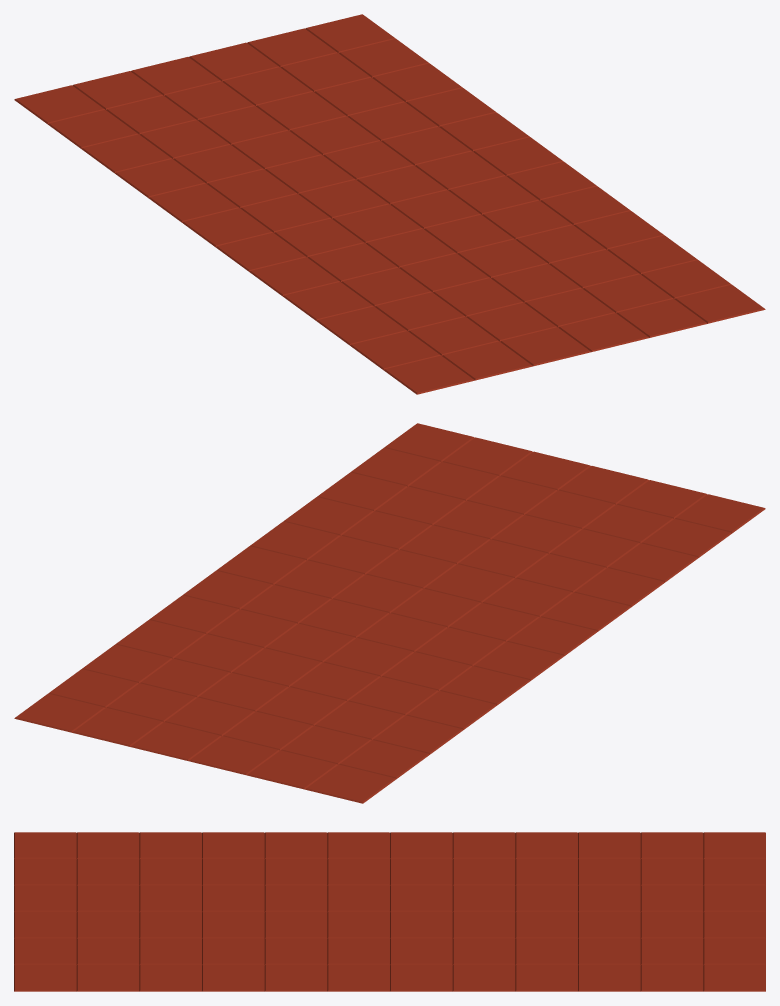
The model's file is playing field lvl1.fbx.
3 renders of one model, top to bottom at view 1: azimuth 30°, elevation 25°; view 2: azimuth 150°, elevation 25°; view 3: azimuth 270°, elevation 25°, orthographic. The views are drawn at different scales.
Parts seen in each view (by area): view 1: Plane.002, Plane.004, Plane.047, Plane.039, Plane.042, Plane.046, Plane.054, Plane.066, Plane.073, Plane.085, Plane.079, Plane.109 (+60 smaller); view 2: Plane.109, Plane.110, Plane.114, Plane.111, Plane.112, Plane.113, Plane.085, Plane.097, Plane.079, Plane.066, Plane.002, Plane.073 (+60 smaller); view 3: Plane.051, Plane.053, Plane.070, Plane.072, Plane.088, Plane.090, Plane.106, Plane.108, Plane.049, Plane.068, Plane.086, Plane.104 (+60 smaller).
Part boxes in pixels (x1=…): Plane.002: x1=383, y1=355, x2=474, y2=394; Plane.004: x1=442, y1=341, x2=532, y2=380; Plane.047: x1=674, y1=284, x2=765, y2=323; Plane.039: x1=500, y1=327, x2=590, y2=366; Plane.042: x1=558, y1=313, x2=648, y2=351; Plane.046: x1=616, y1=299, x2=707, y2=337; Plane.054: x1=316, y1=306, x2=406, y2=345; Plane.066: x1=249, y1=257, x2=339, y2=296; Plane.073: x1=215, y1=232, x2=306, y2=271; Plane.085: x1=148, y1=183, x2=238, y2=222; Plane.079: x1=182, y1=208, x2=272, y2=246; Plane.109: x1=14, y1=85, x2=104, y2=124; Plane.109: x1=305, y1=764, x2=396, y2=803; Plane.110: x1=247, y1=750, x2=337, y2=789; Plane.114: x1=14, y1=693, x2=105, y2=732; Plane.111: x1=189, y1=736, x2=279, y2=775; Plane.112: x1=131, y1=722, x2=221, y2=760; Plane.113: x1=72, y1=708, x2=163, y2=746; Plane.085: x1=440, y1=666, x2=530, y2=705; Plane.097: x1=373, y1=715, x2=463, y2=754; Plane.079: x1=473, y1=641, x2=564, y2=680; Plane.066: x1=541, y1=592, x2=631, y2=631; Plane.002: x1=675, y1=494, x2=765, y2=533; Plane.073: x1=507, y1=617, x2=597, y2=655; Plane.051: x1=76, y1=911, x2=139, y2=938; Plane.053: x1=76, y1=964, x2=139, y2=991; Plane.070: x1=264, y1=911, x2=327, y2=938; Plane.072: x1=264, y1=964, x2=327, y2=991; Plane.088: x1=452, y1=911, x2=515, y2=938; Plane.090: x1=452, y1=964, x2=515, y2=991; Plane.106: x1=640, y1=911, x2=703, y2=938; Plane.108: x1=640, y1=964, x2=703, y2=991; Plane.049: x1=76, y1=858, x2=139, y2=885; Plane.068: x1=264, y1=858, x2=327, y2=885; Plane.086: x1=452, y1=858, x2=515, y2=885; Plane.104: x1=640, y1=858, x2=703, y2=885.
Bounding box in the file's own units: 1200 × 3.8 × 2400.
